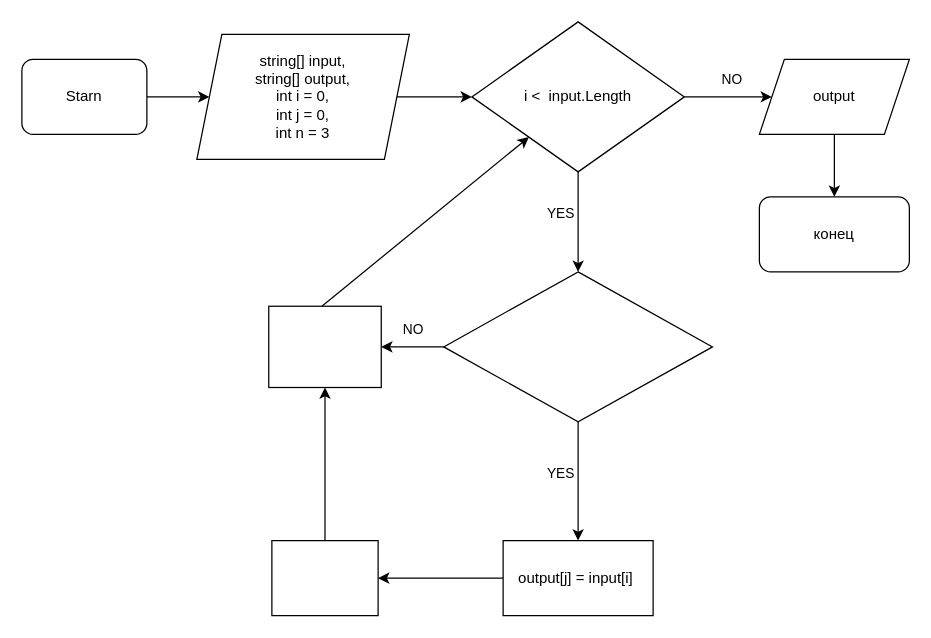
Image size: 931x638. Some labels were removed from this diagram. The shapes that lost their labels are listed below. From the top down, each one's centre as x and y in pixels, then its label:
At pixel 324 346: "i++".
At pixel 577 346: "input[i].Length <= n".
At pixel 324 577: "j++".
